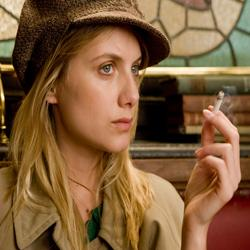cigarro: (208, 80, 231, 143)
fumador: (14, 5, 246, 250)
